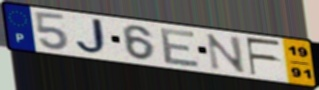5: (32, 11, 71, 52)
6: (121, 24, 157, 61)
E: (159, 27, 202, 69)
F: (244, 36, 283, 77)
J: (74, 17, 113, 56)
N: (204, 32, 248, 75)
